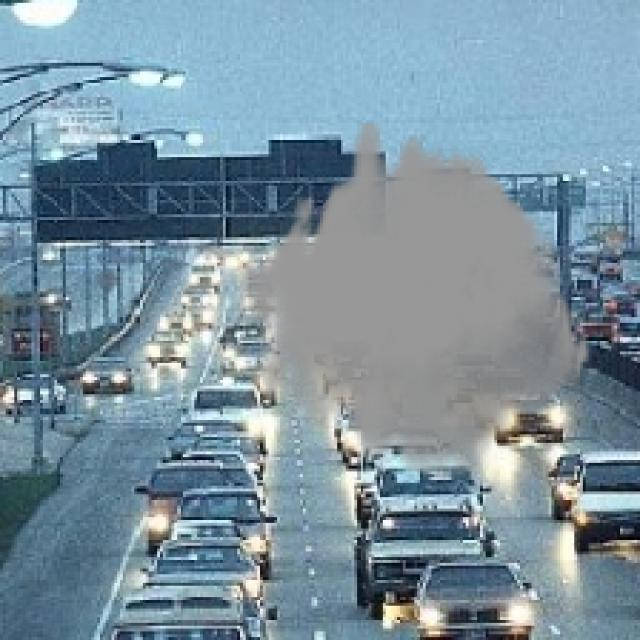smoke: (240, 123, 591, 480)
